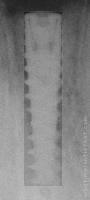Nobel Biocare: (24, 12, 62, 186)
